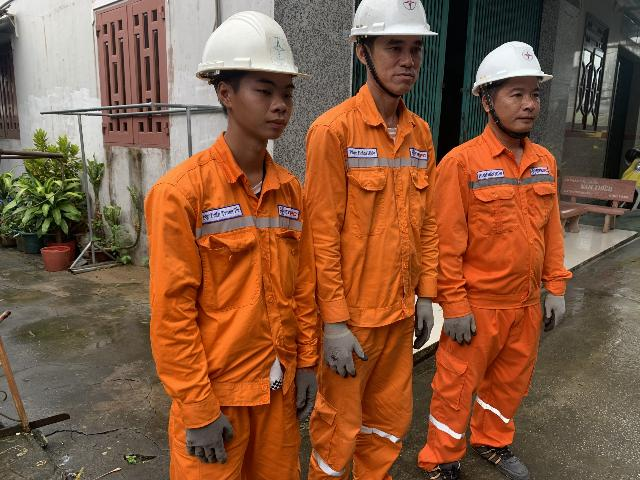gloves: (165, 404, 249, 473), (309, 312, 371, 383), (286, 370, 323, 423), (441, 299, 479, 350), (538, 286, 574, 331), (412, 290, 442, 342)
helmet: (199, 0, 321, 99), (339, 0, 451, 50), (461, 41, 568, 87)
shoes: (466, 433, 544, 480), (407, 447, 468, 480)
